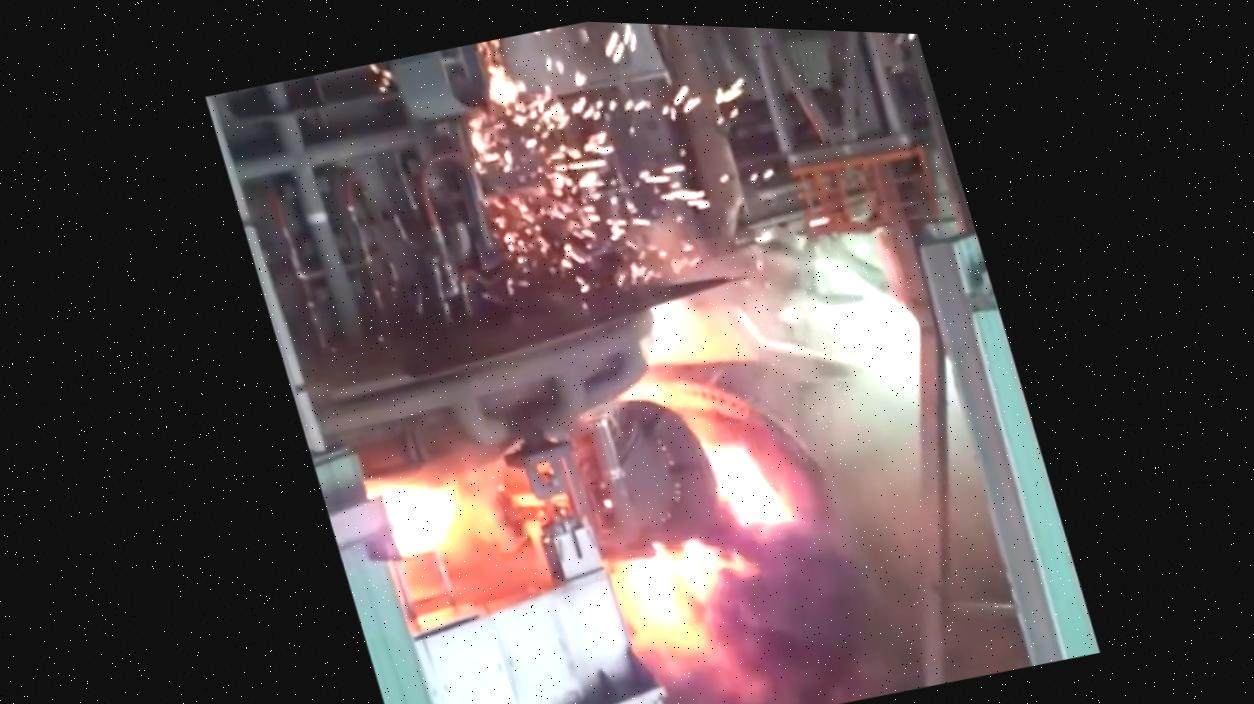fire: (335, 130, 1013, 700)
